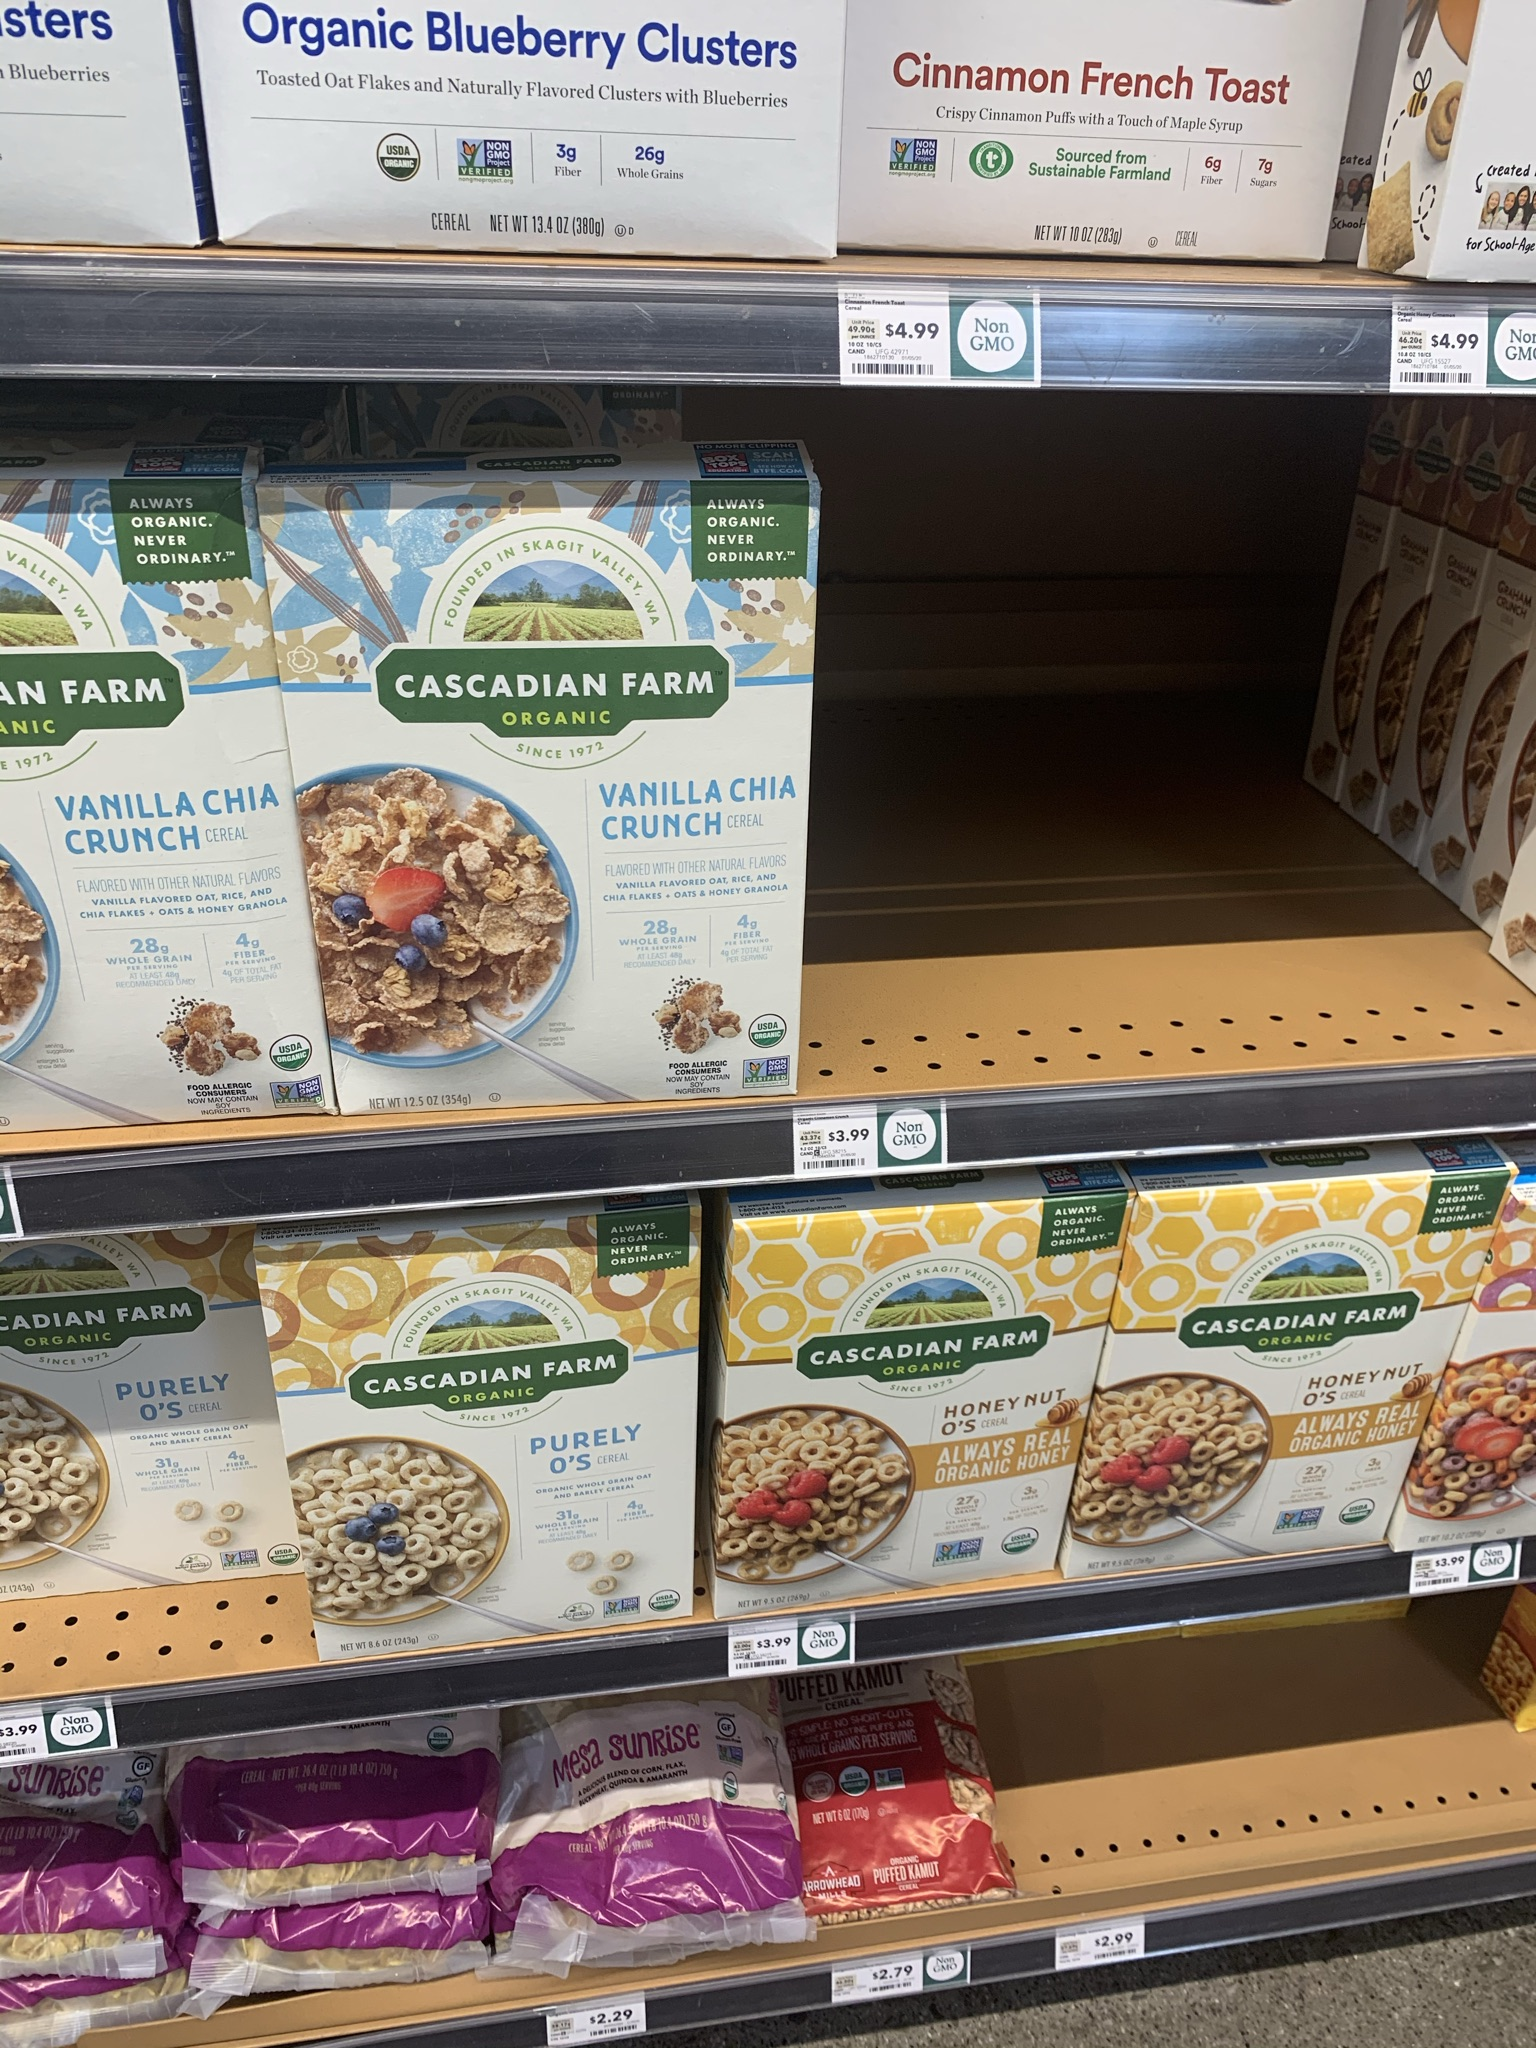Cereal cascadian: (273, 493, 808, 1109), (266, 1243, 715, 1637), (6, 510, 302, 1106), (739, 1226, 1087, 1574), (6, 1279, 297, 1693), (1139, 1201, 1454, 1551)
